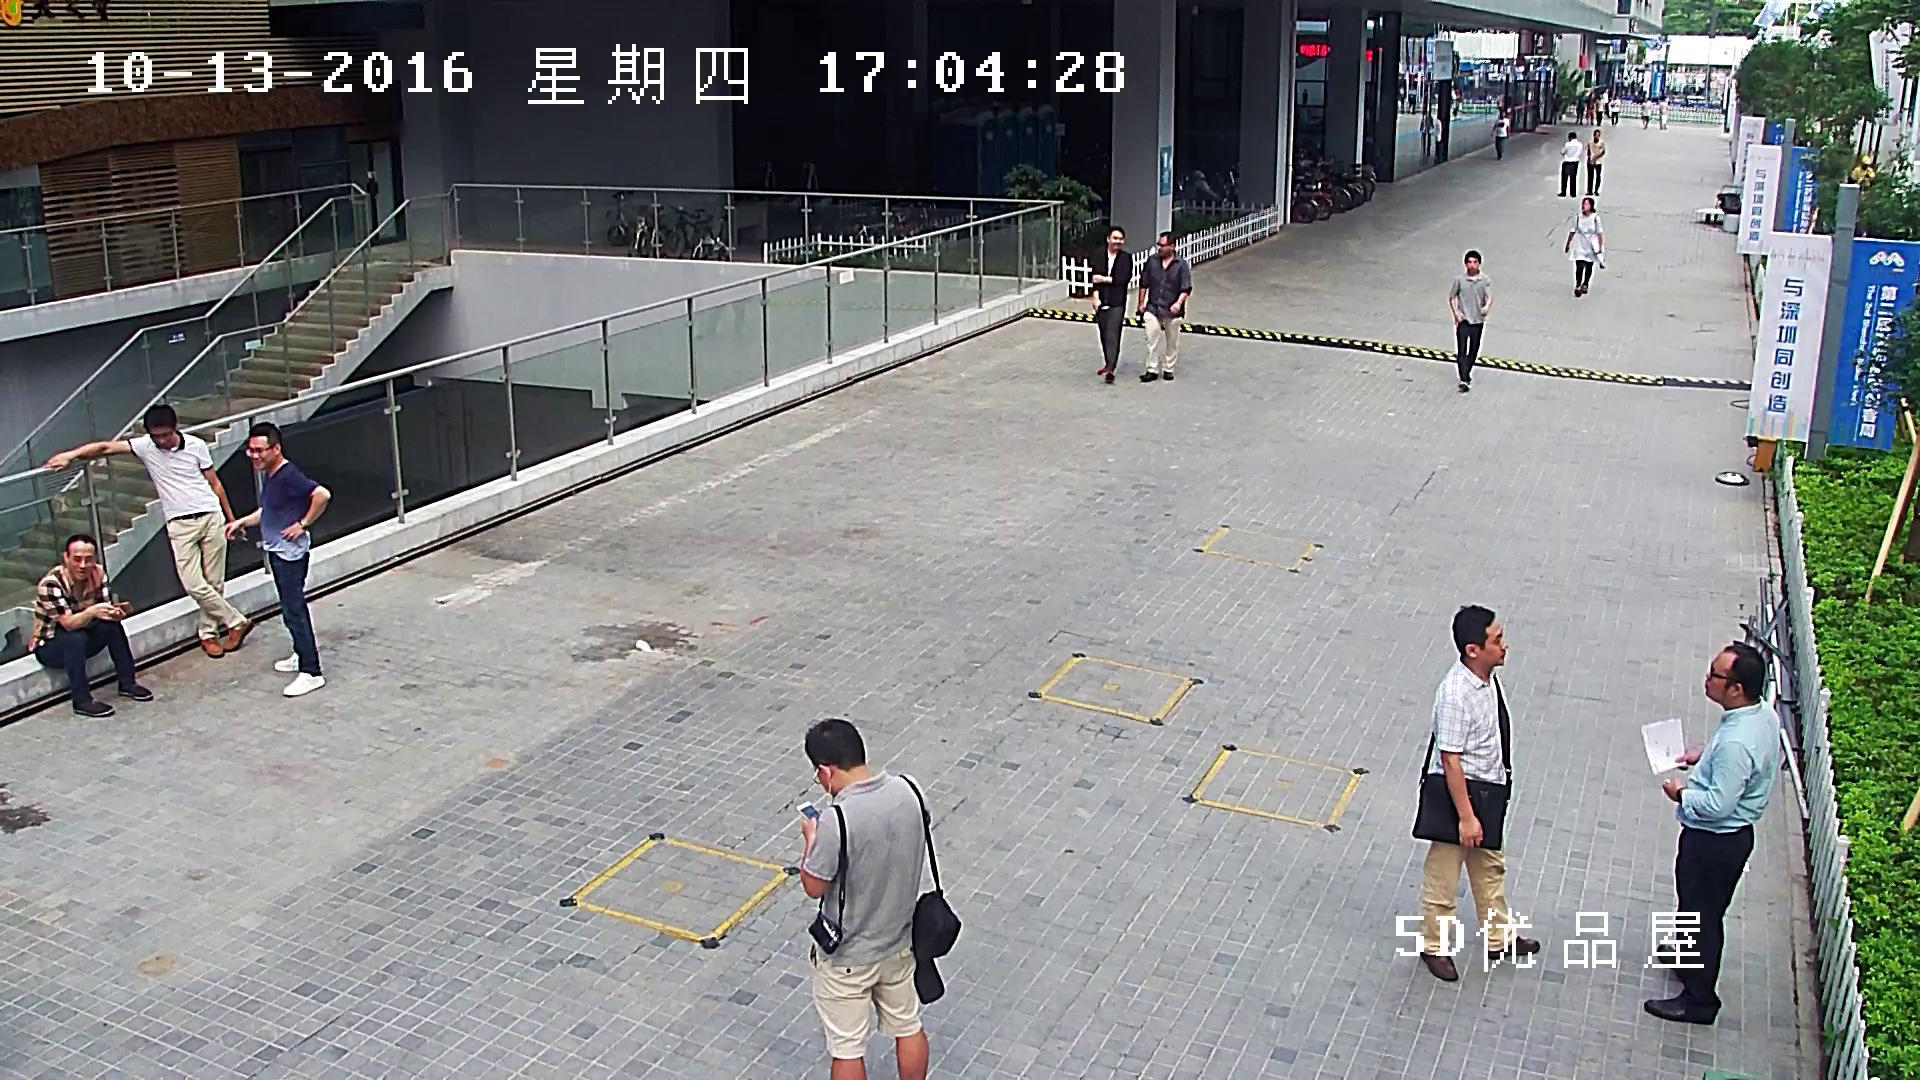person: (797, 719, 960, 1080), (1642, 639, 1781, 1024), (44, 404, 254, 657), (1413, 604, 1539, 982), (224, 421, 331, 695), (28, 534, 153, 718), (1137, 232, 1189, 381), (1092, 225, 1134, 384), (1448, 250, 1490, 391), (1563, 197, 1606, 297), (1557, 131, 1583, 197), (1584, 130, 1604, 194), (1491, 112, 1509, 160), (1850, 156, 1875, 187), (1640, 98, 1651, 129), (1594, 94, 1603, 126), (1609, 98, 1619, 125), (1659, 100, 1668, 130), (1575, 94, 1583, 124), (1586, 92, 1593, 125)
